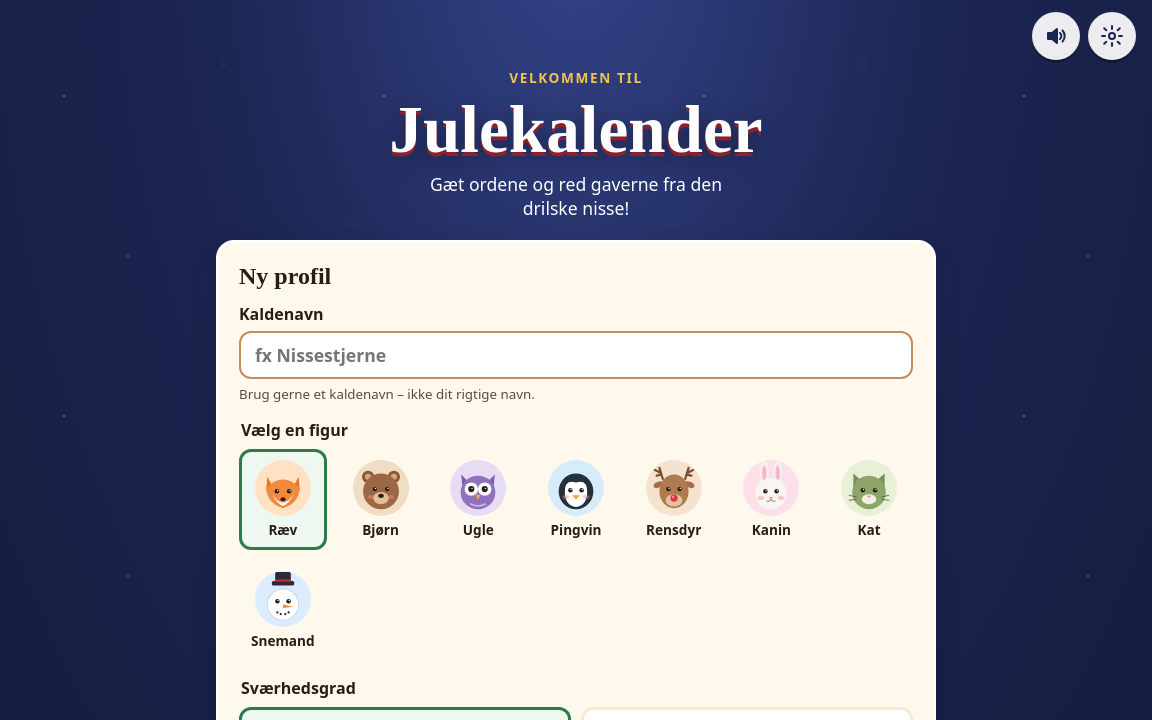
Test case: app-flow › fysisk tastatur virker i spillet, men ikke i tekstfelter
Later steps or results of the test are not shown.
Type "Bo" into the field labelled "Kaldenavn Brug gerne et kaldenavn – ikke dit rigtige navn." at (576, 355), box [239,331,913,379]
(page scrolled)
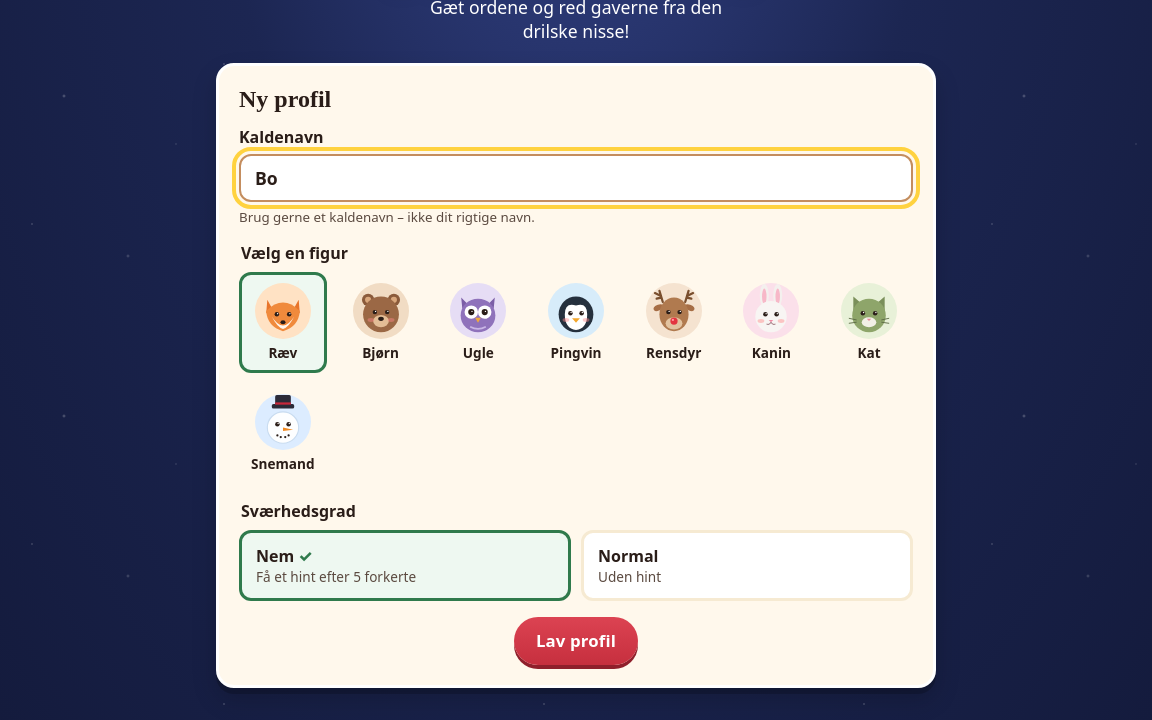
Click the text "Normal" at (628, 556), box [598,545,658,567]
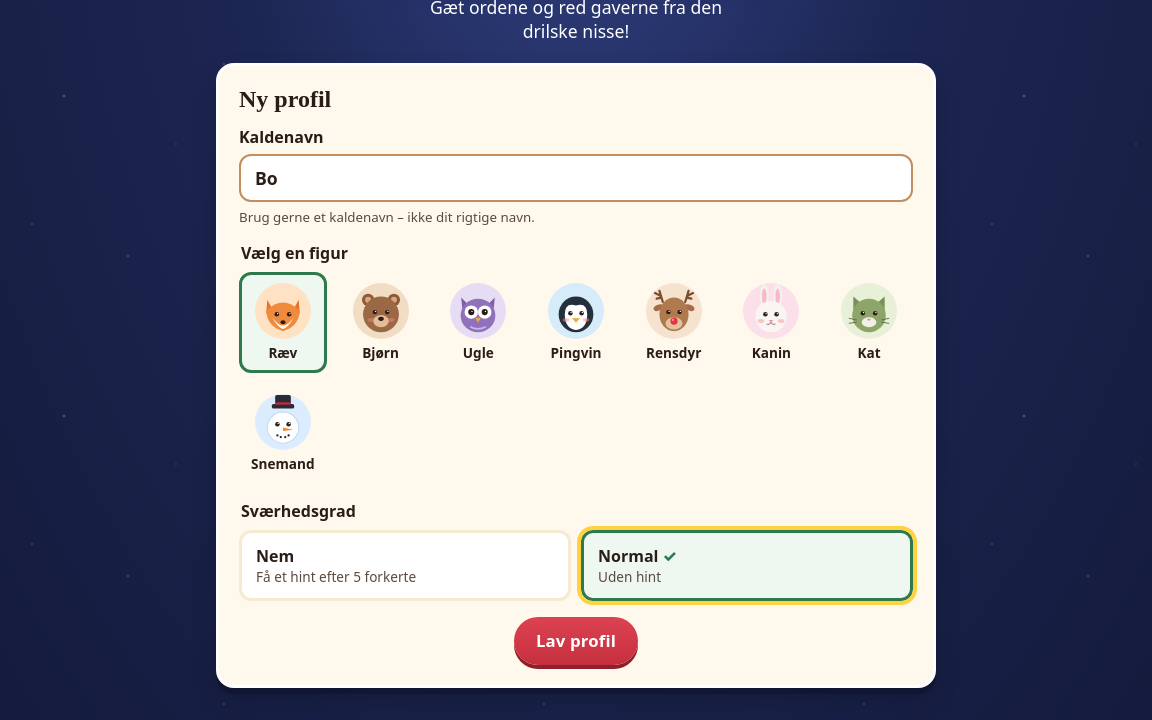
Click the button "Lav profil" at (576, 641), box [514,617,638,665]
(page scrolled)
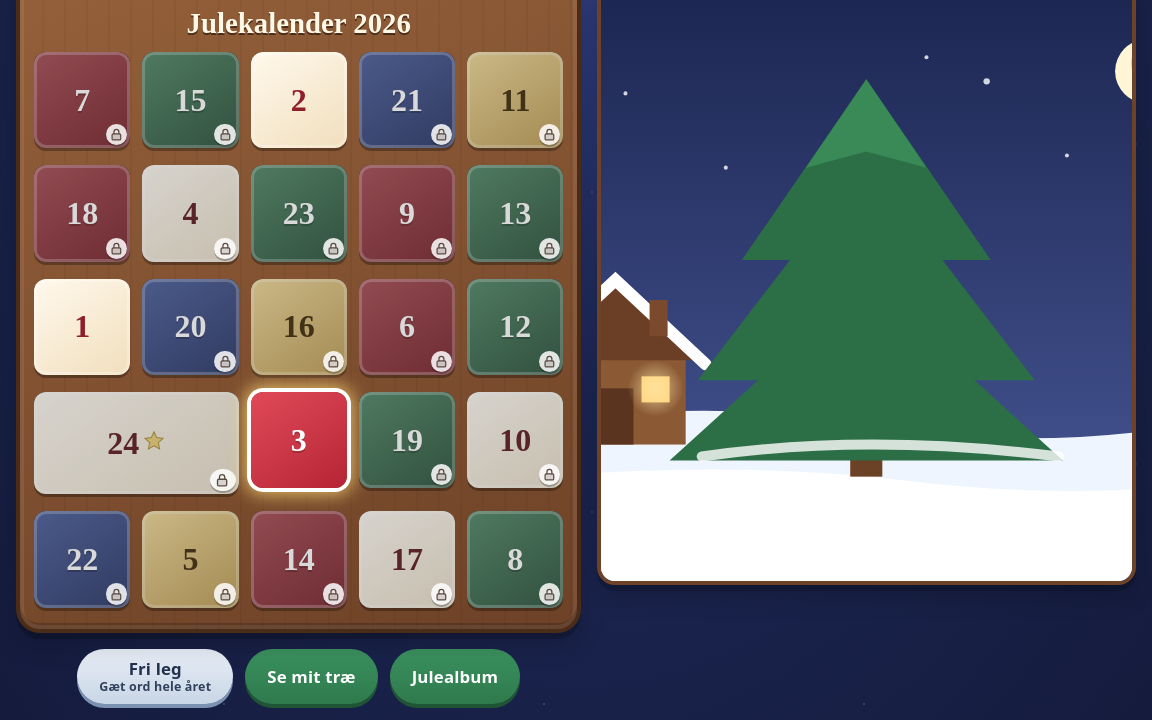
Click the button "1" at (82, 327), box [34,279,130,375]
(page scrolled)
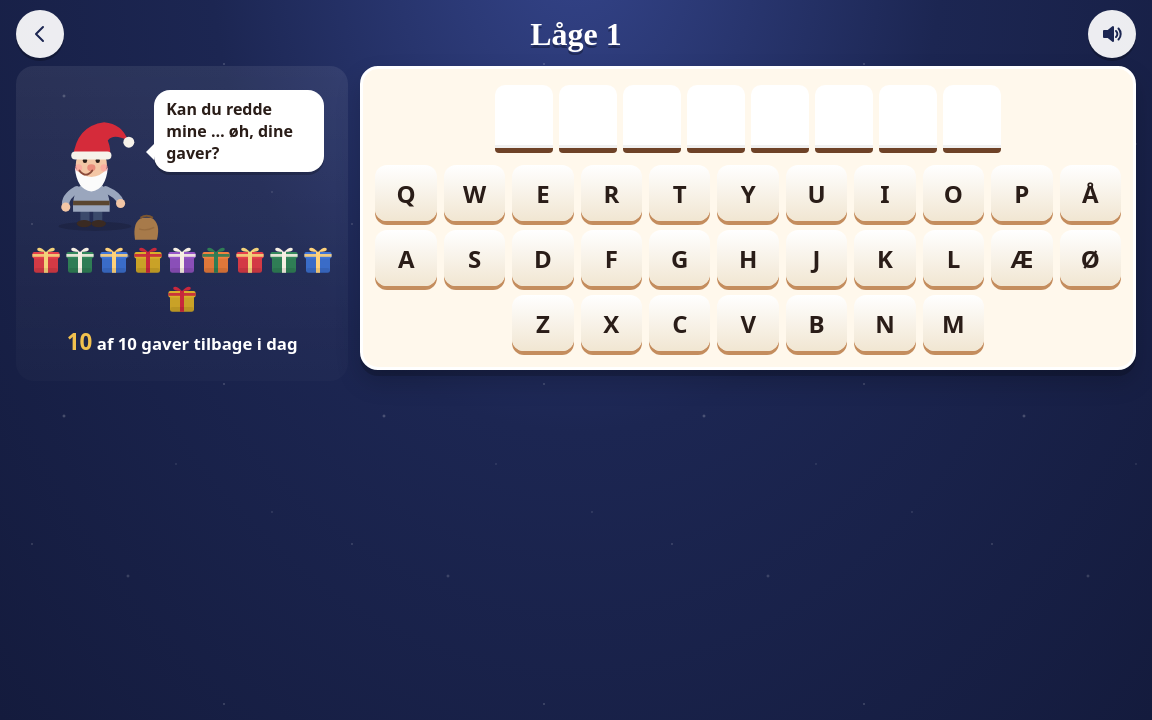
Expected: the heading "Låge 1" is shown, [530,16,622,52]
